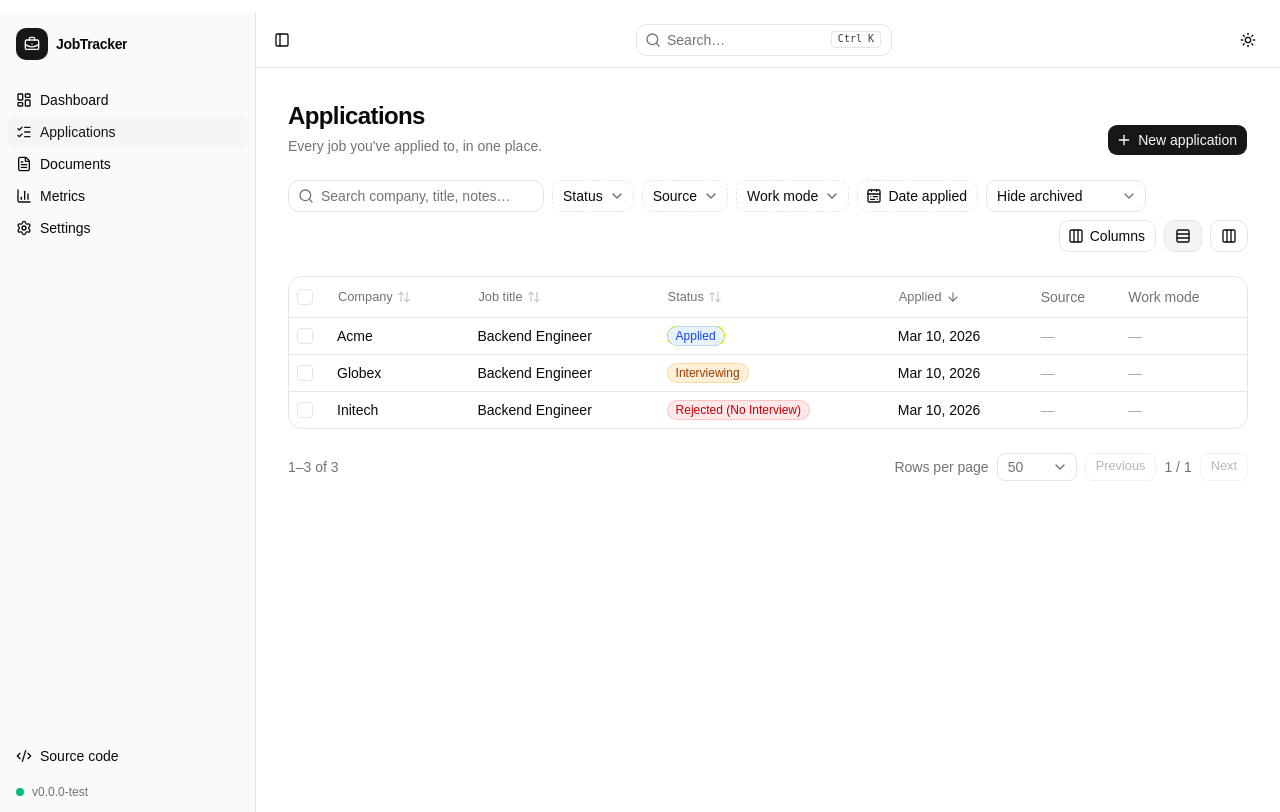
Board view › a failed move snaps the card back
Click the radio button named "Board view" at (1229, 236), box [1210,220,1248,252]
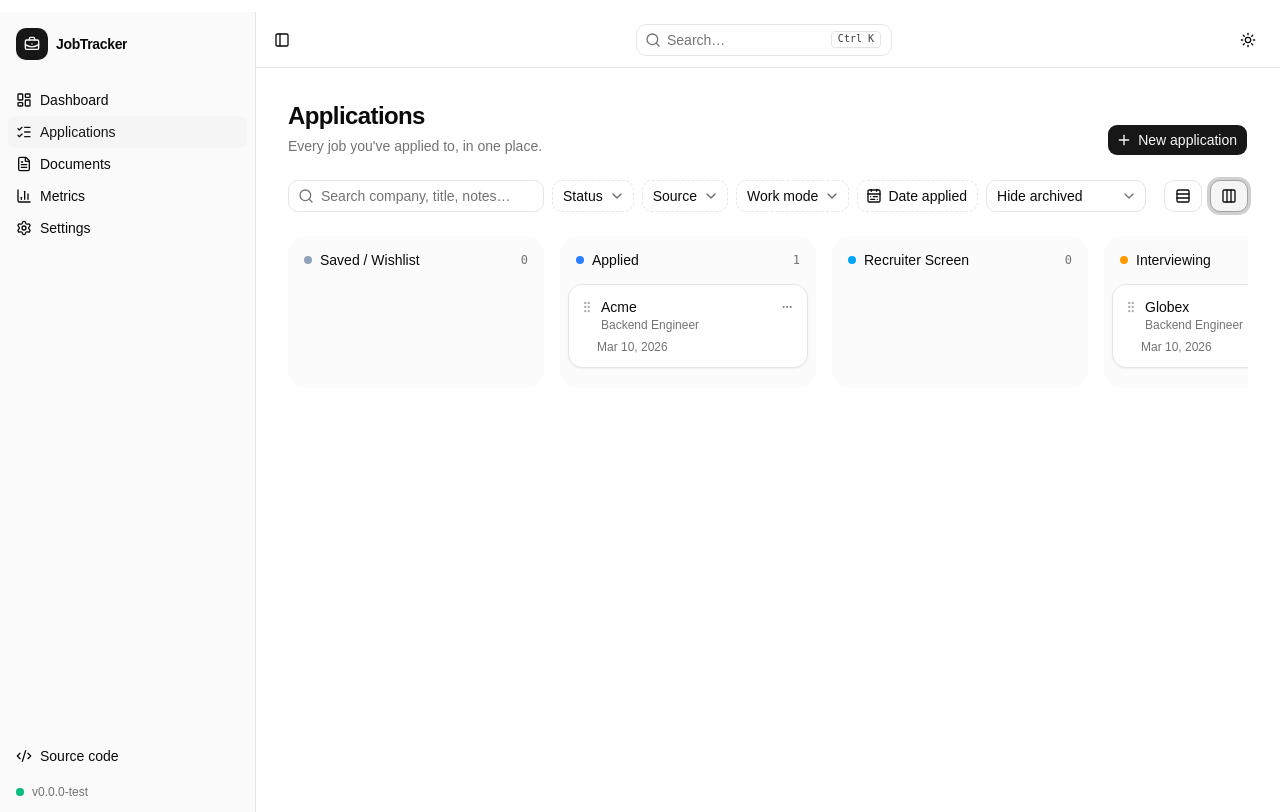
Click the button named "Move Acme" at (787, 307), box [775,295,799,319]
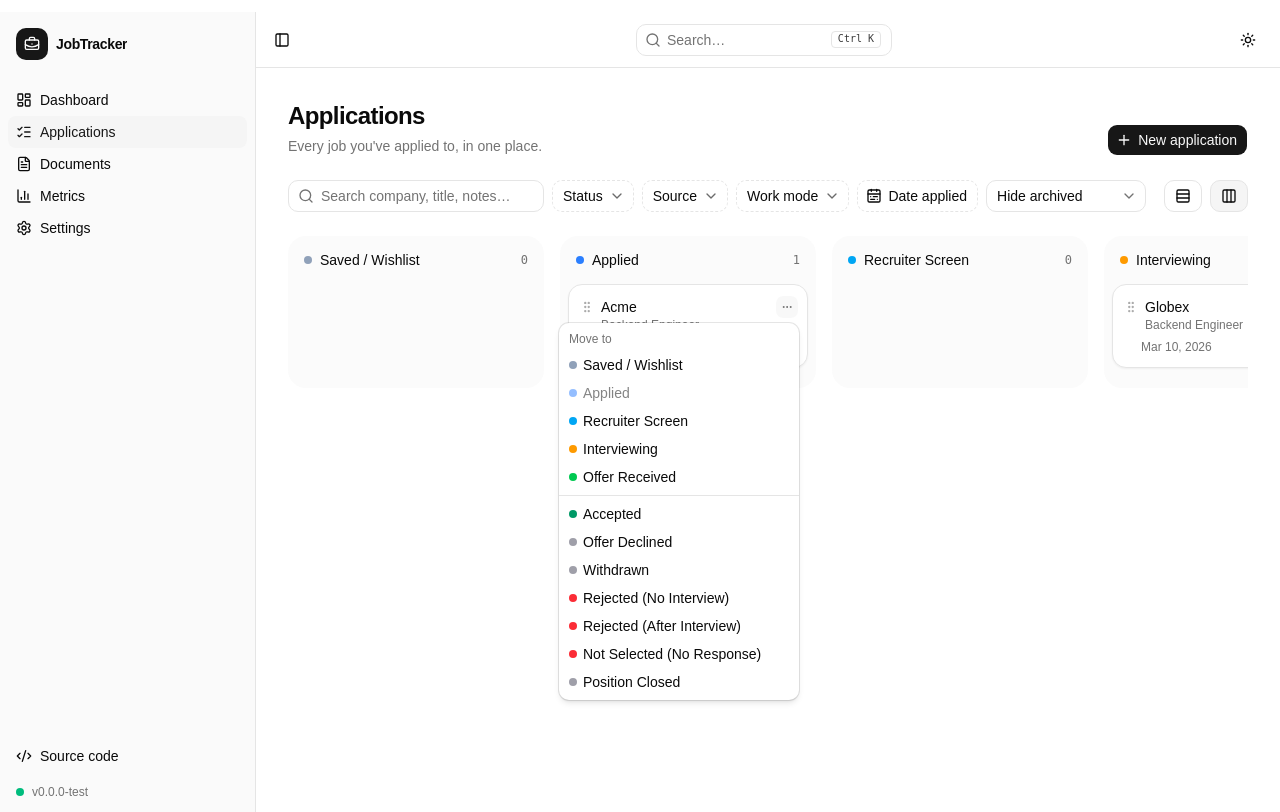
Click the menu item "Offer Received" at (623, 477), box [569,469,676,485]
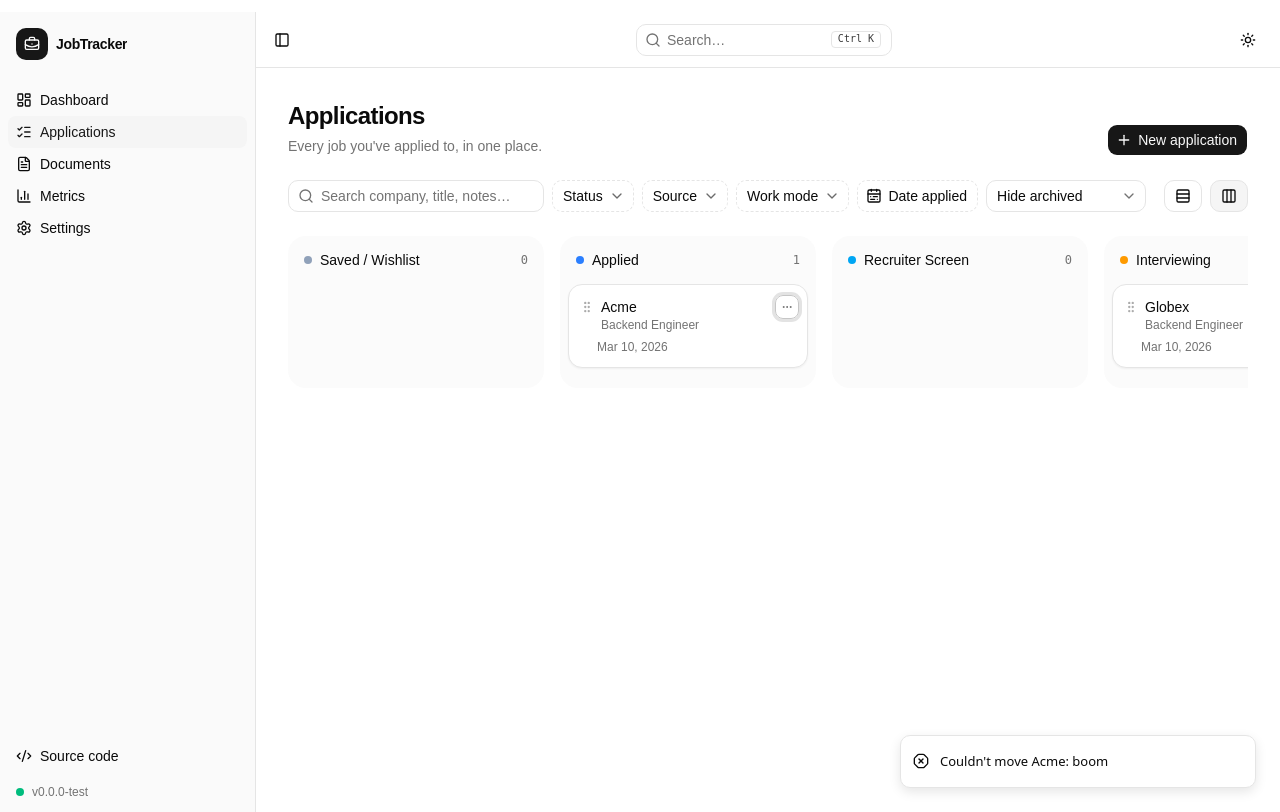
Expected: the link "Acme" is shown, [601,299,637,315]
Expected: the text "Couldn't move Acme: boom" is shown, [940,752,1108,771]
